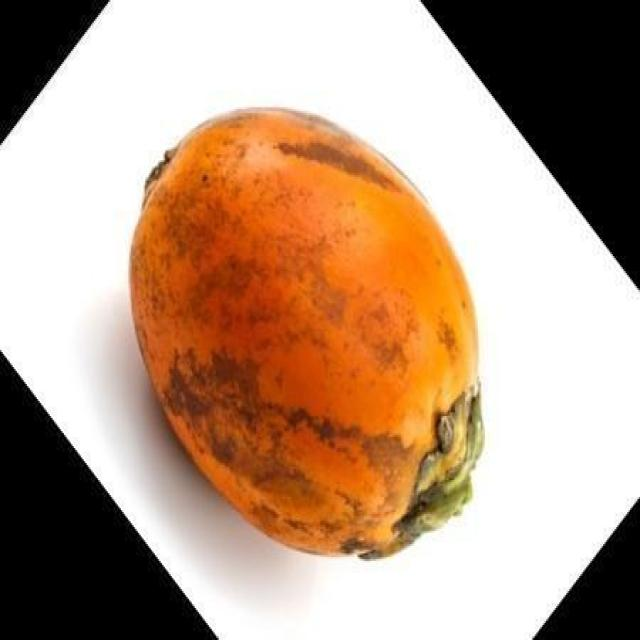good: (129, 107, 485, 561)
